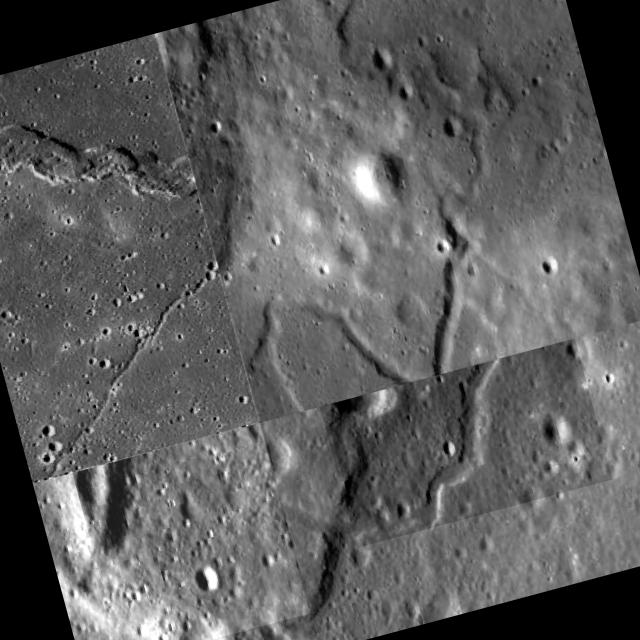rille: (0, 33, 258, 482), (209, 122, 546, 418), (319, 338, 612, 547), (32, 422, 309, 640)
